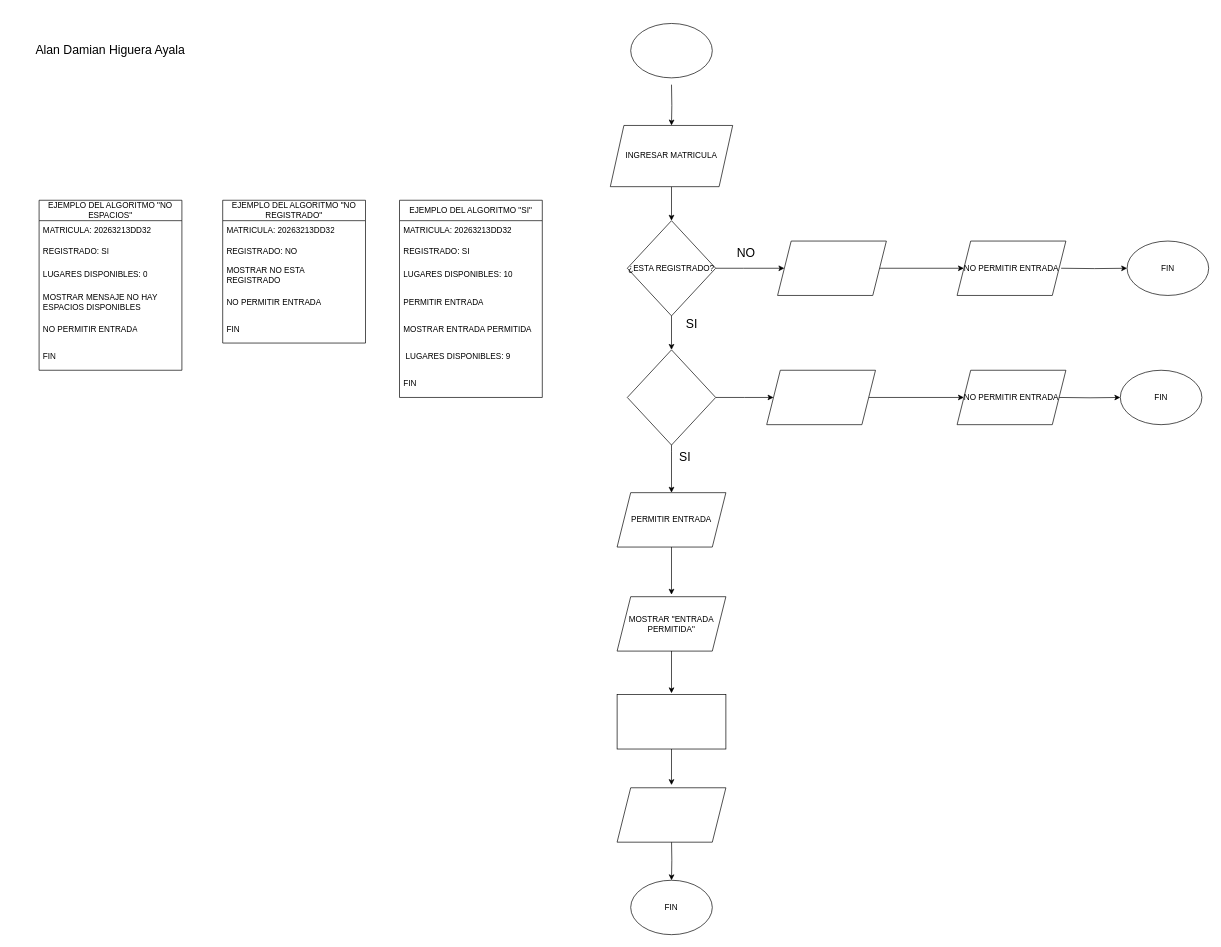
The diagram is 1221 pixels wide and 947 high, and some of its shapes have lost their labels. Each missing label, with the centre of its shape:
ESPACIOS DISPONIBLES= ESPACIOS DISPONIBLES -1: the point at 671,721
INICIO: the point at 671,50
MOSTRAR ESPACIOS DISPONIBLES= 9: the point at 671,814
MOSTRAR MENSAJE "NO ESTA REGISTRADO": the point at 831,267
MOSTRAR MENSAJE "NO HAY ESPACIOS DISPONIBLES": the point at 821,397
¿HAY ESPACIOS DISPONIBLES?: the point at 671,397
